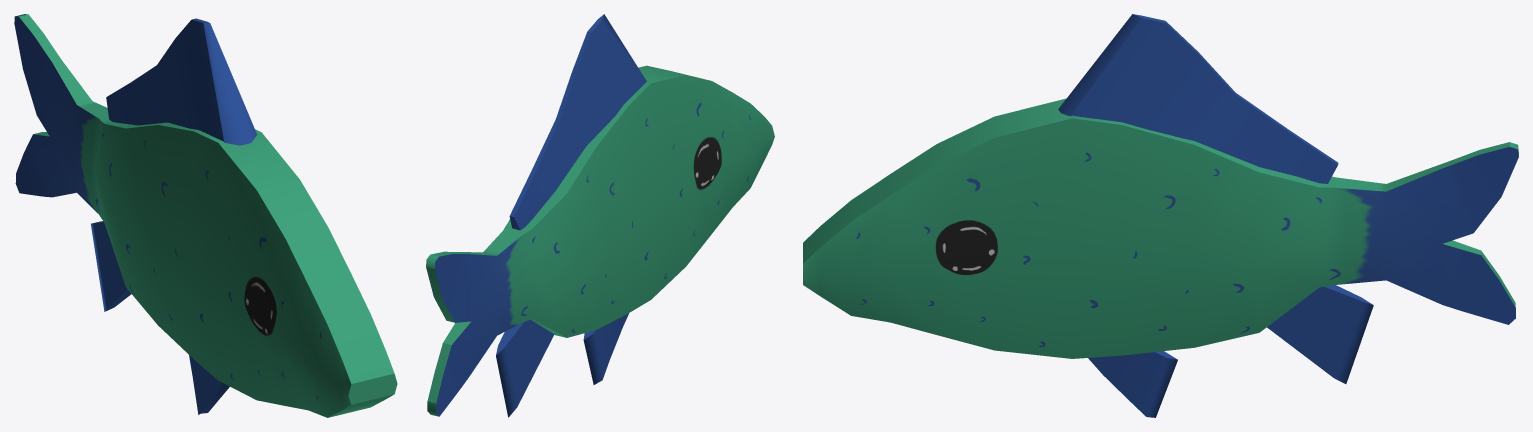
Rendered from Vis3.fbx.
3 views of the same model, side by side, from view 1: azimuth 30°, elevation 25°; view 2: azimuth 150°, elevation 25°; view 3: azimuth 270°, elevation 25° (orthographic). The views are drawn at different scales.
Visible parts, largest first — view 1: BasicFishYellow_2; view 2: BasicFishYellow_2; view 3: BasicFishYellow_2.
Part boxes in pixels (x1=…): BasicFishYellow_2: x1=14, y1=14, x2=397, y2=417; BasicFishYellow_2: x1=426, y1=14, x2=774, y2=417; BasicFishYellow_2: x1=803, y1=14, x2=1518, y2=417.
Bounding box in the file's own units: 0.1507 × 0.8775 × 1.41.
